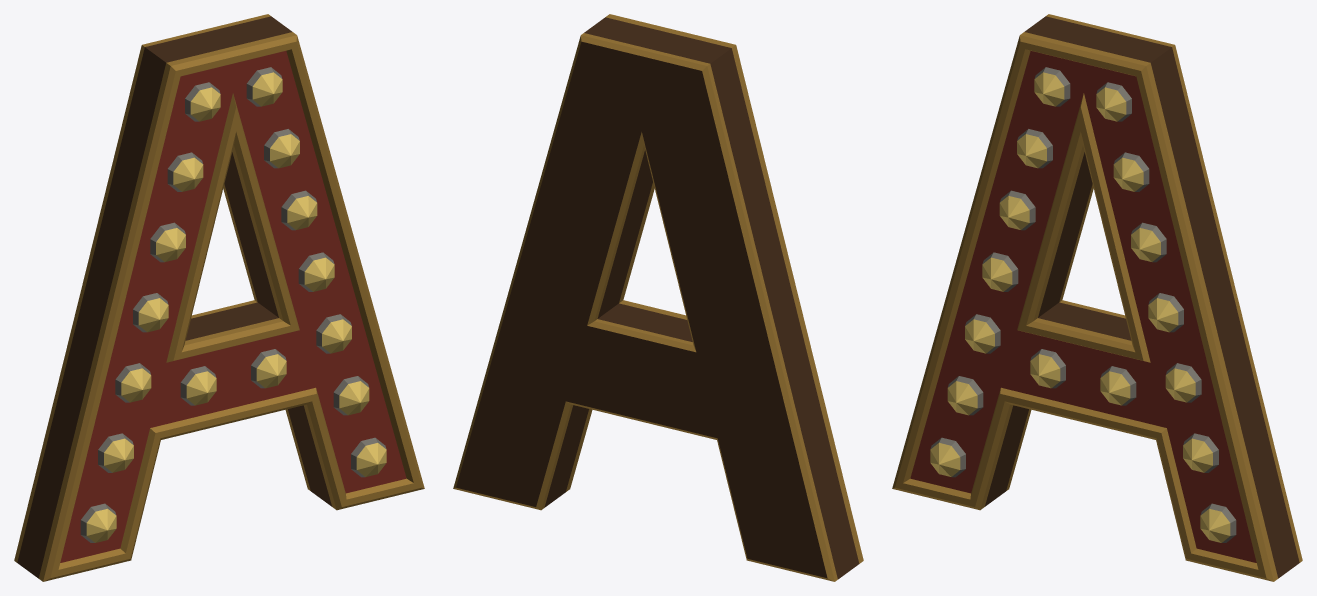
Rendered from marquee-bulb-letter-ccfce0.glb.
3 views of the same model, side by side, from view 1: azimuth 30°, elevation 25°; view 2: azimuth 150°, elevation 25°; view 3: azimuth 330°, elevation 25° (orthographic).
Parts seen in each view (by area): view 1: marquee-letter; view 2: marquee-letter; view 3: marquee-letter.
Boxes of the visible parts, x1=… form: marquee-letter: x1=14, y1=14, x2=424, y2=581; marquee-letter: x1=453, y1=14, x2=863, y2=581; marquee-letter: x1=892, y1=14, x2=1302, y2=581.
Size of the model in its own units: 0.9888 by 1.2 by 0.18.
